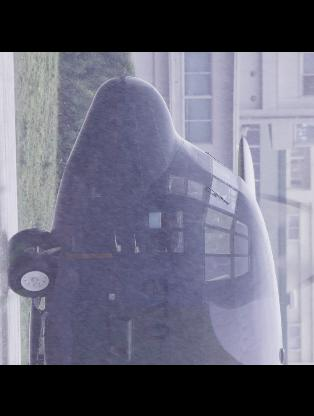Be200: (8, 75, 313, 366)
